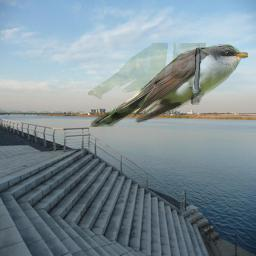Cuckoo: (88, 43, 248, 127)
